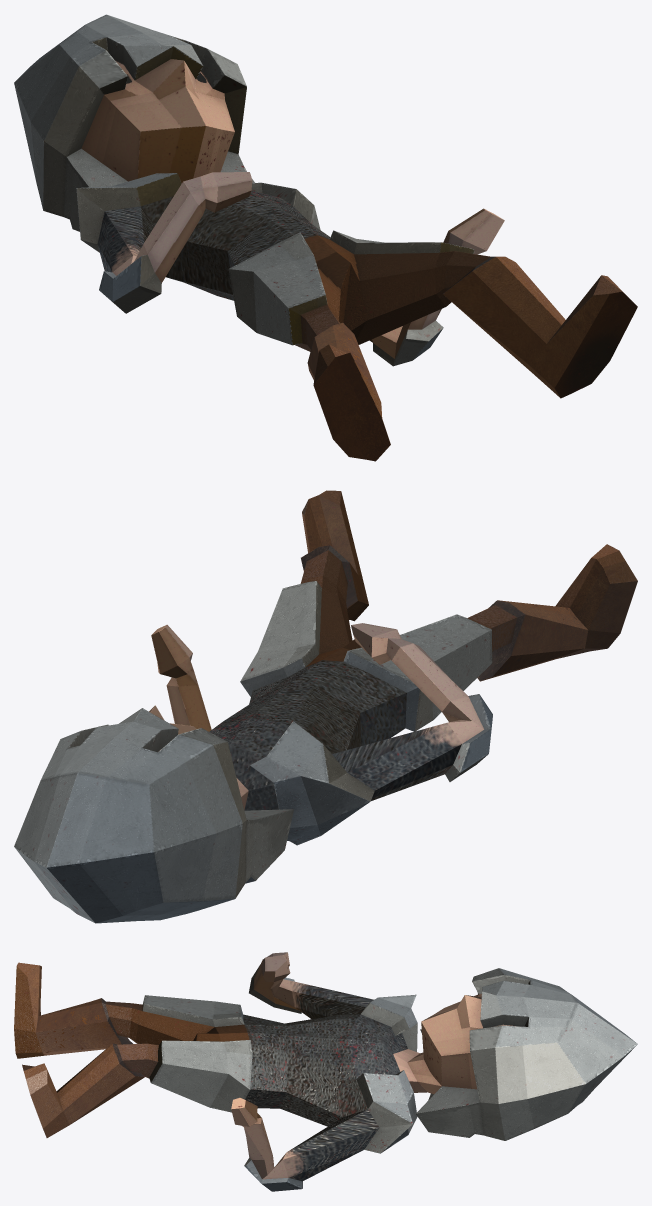
Rendered from Walk_Soldier_10.obj.
The picture shows the model from 3 angles, top to bottom: view 1: azimuth 30°, elevation 25°; view 2: azimuth 150°, elevation 25°; view 3: azimuth 270°, elevation 25°; orthographic projection. The views are drawn at different scales.
Parts seen in each view (by area): view 1: Soldado_LowPolySTD; view 2: Soldado_LowPolySTD; view 3: Soldado_LowPolySTD.
Part boxes in pixels (left/top/right/bottom): Soldado_LowPolySTD: left=14, top=14, right=637, bottom=461; Soldado_LowPolySTD: left=14, top=490, right=637, bottom=923; Soldado_LowPolySTD: left=14, top=952, right=637, bottom=1191.
Size of the model in its own units: 0.7766 by 0.4805 by 1.6.
